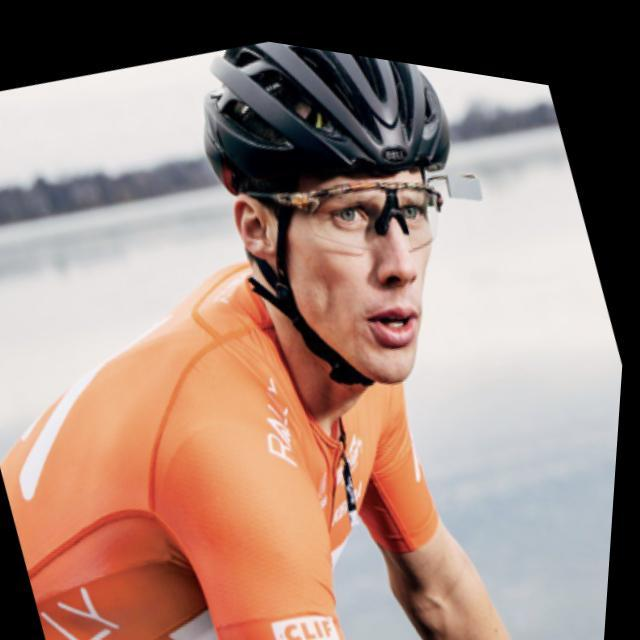Helmet: (188, 32, 456, 404)
